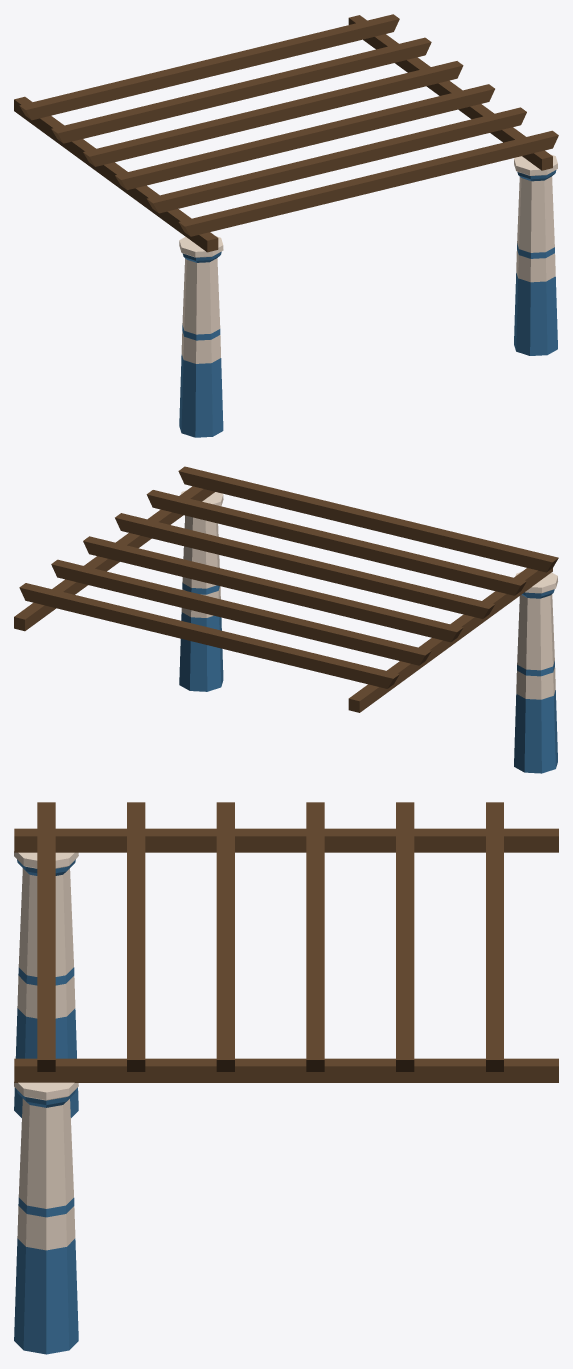
The model's file is empire-colonnade-empire.glb.
3 renders of one model, top to bottom at view 1: azimuth 30°, elevation 25°; view 2: azimuth 150°, elevation 25°; view 3: azimuth 270°, elevation 25°, orthographic. The views are drawn at different scales.
Parts seen in each view (by area): view 1: SM_Colonnade_Empire; view 2: SM_Colonnade_Empire; view 3: SM_Colonnade_Empire.
Part boxes in pixels (x1,y1,x2,y2): SM_Colonnade_Empire: (14, 14, 558, 437); SM_Colonnade_Empire: (14, 466, 558, 773); SM_Colonnade_Empire: (14, 802, 558, 1354).
Size of the model in its own units: 6.71 by 3.58 by 6.
